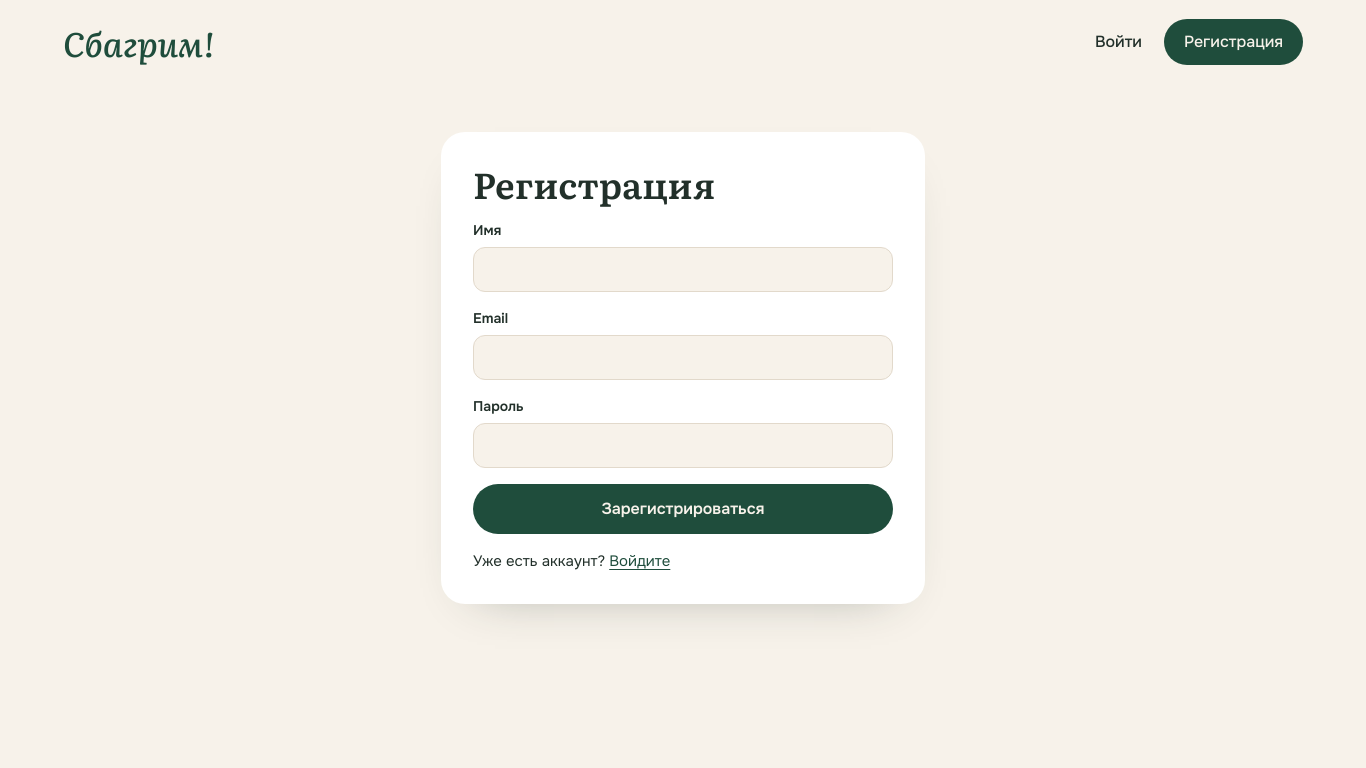
Test: вход и регистрация › регистрирует нового пользователя
Type "Иван" into the field labelled "Имя". click: (683, 269)
box: [473,247,893,292]
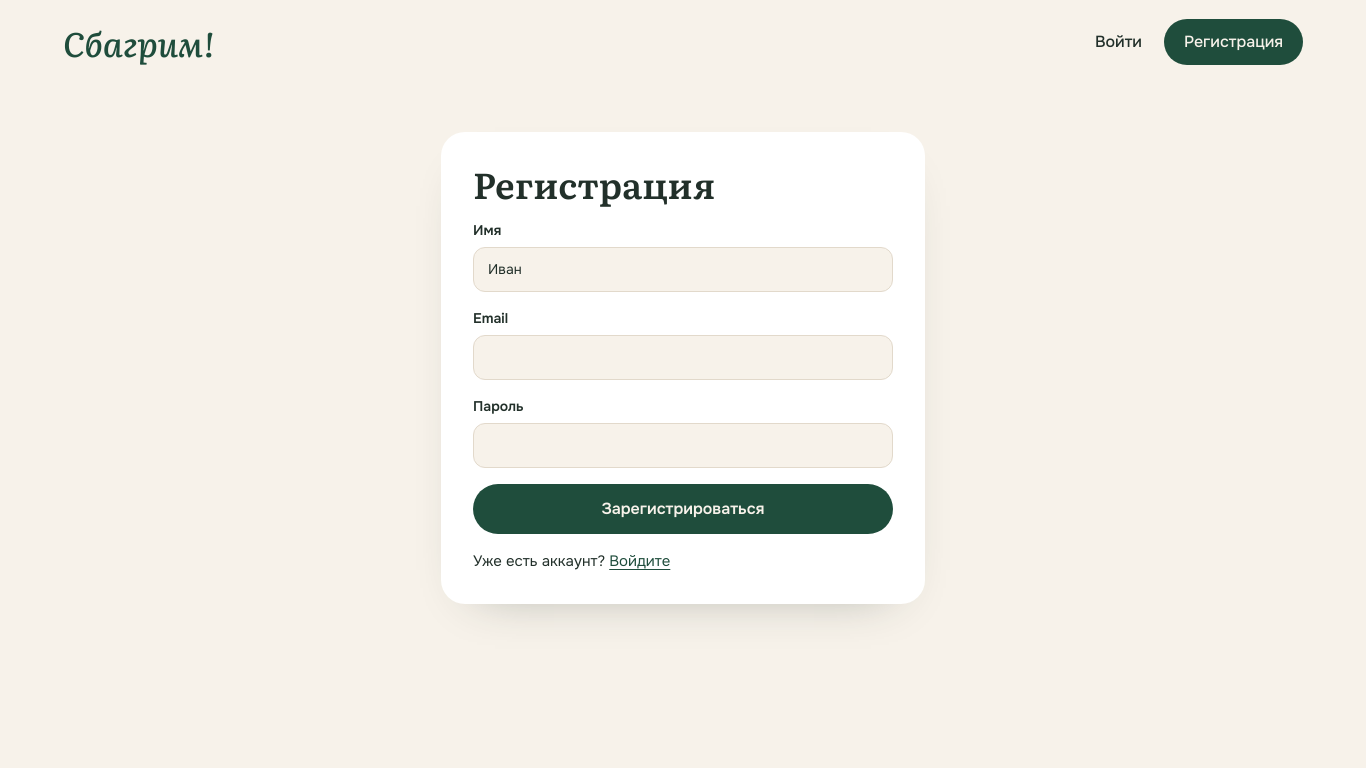
Type "ivan@mail.ru" into the field labelled "Email". click: (683, 357)
box: [473,335,893,380]
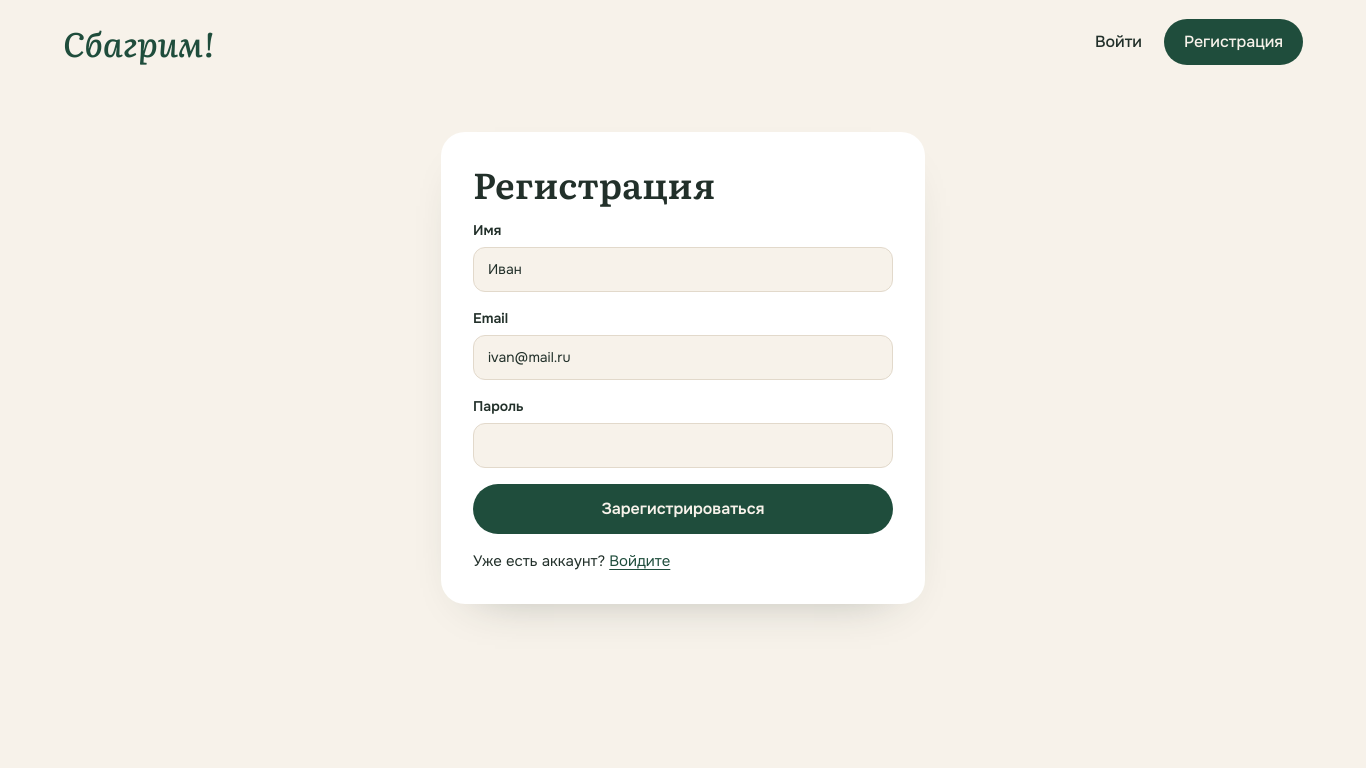
Type "secret12" into the password field labelled "Пароль". click: (683, 445)
box: [473,423,893,468]
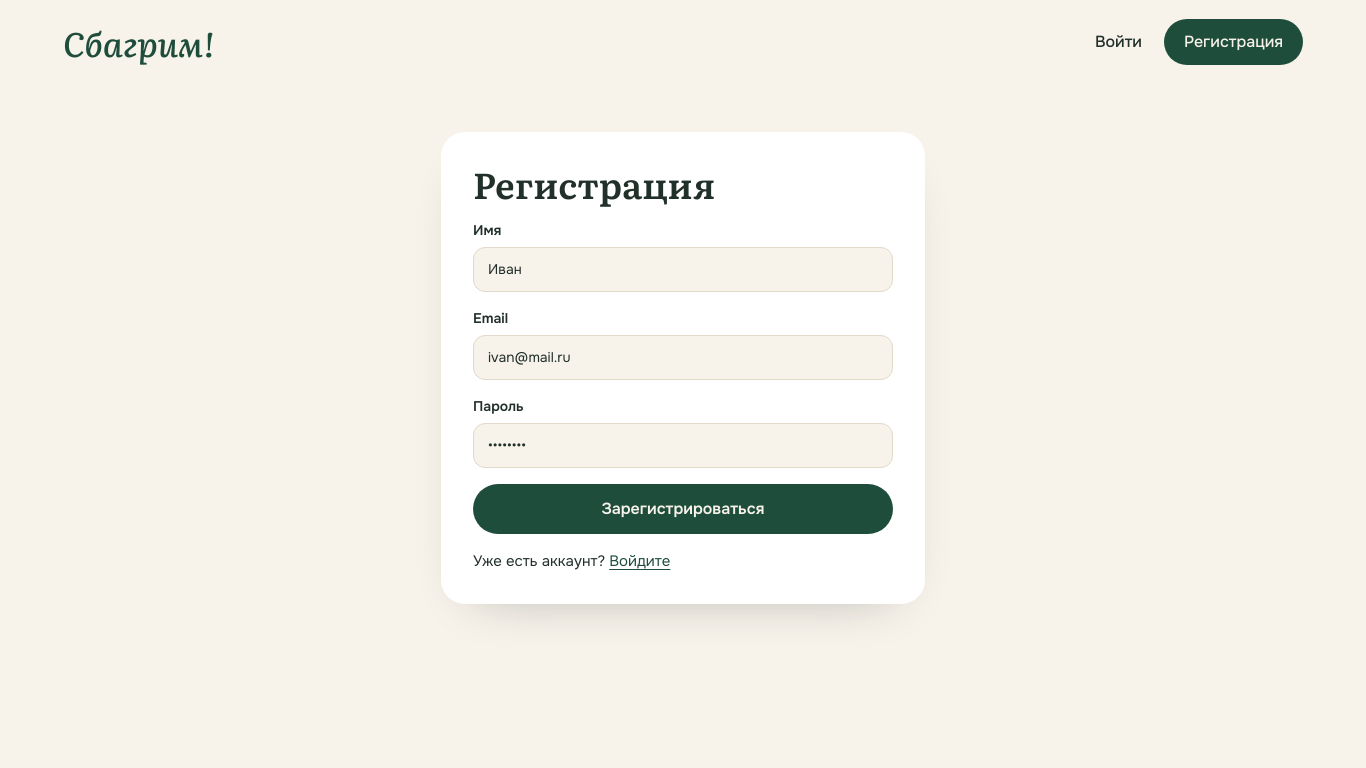
Click the button "Зарегистрироваться". click: (683, 509)
box: [473,484,893,534]
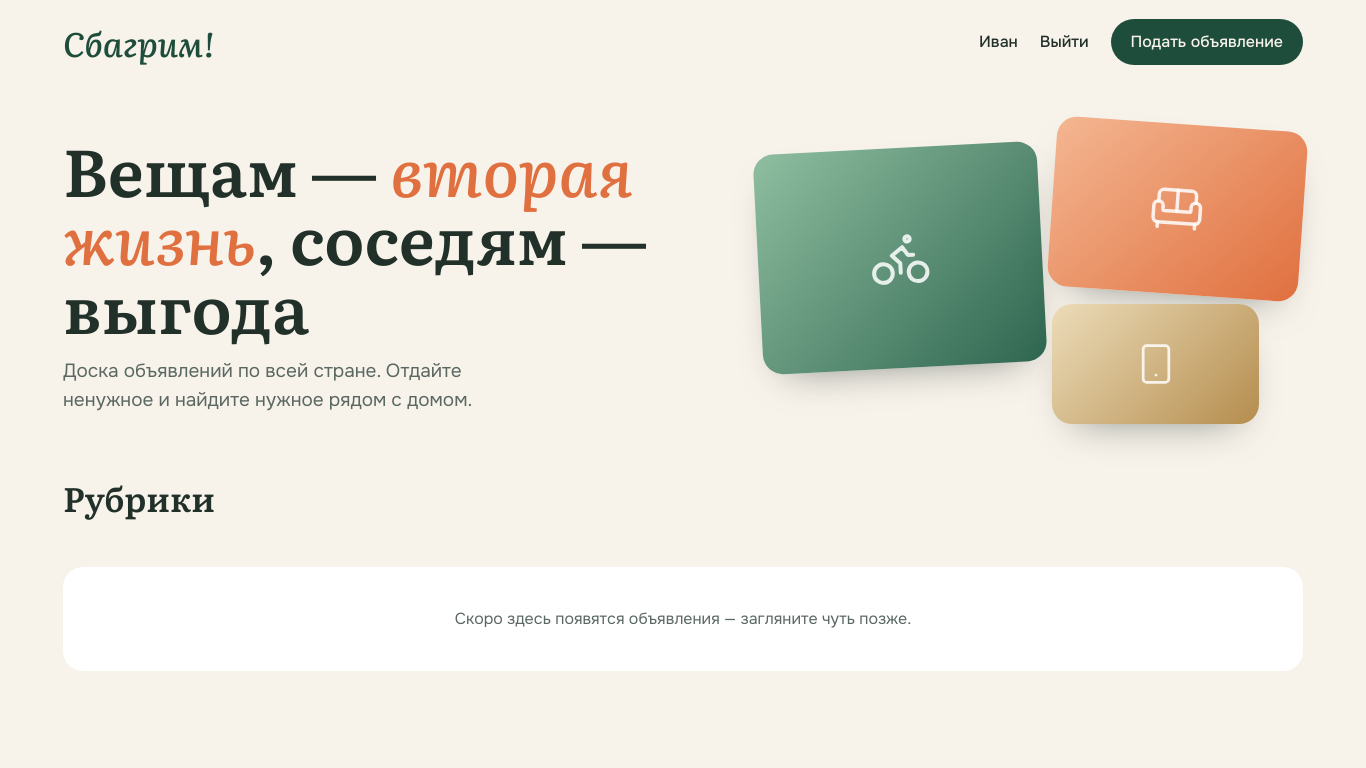
Now the text "Иван" is shown, box [979,30,1018,54]
